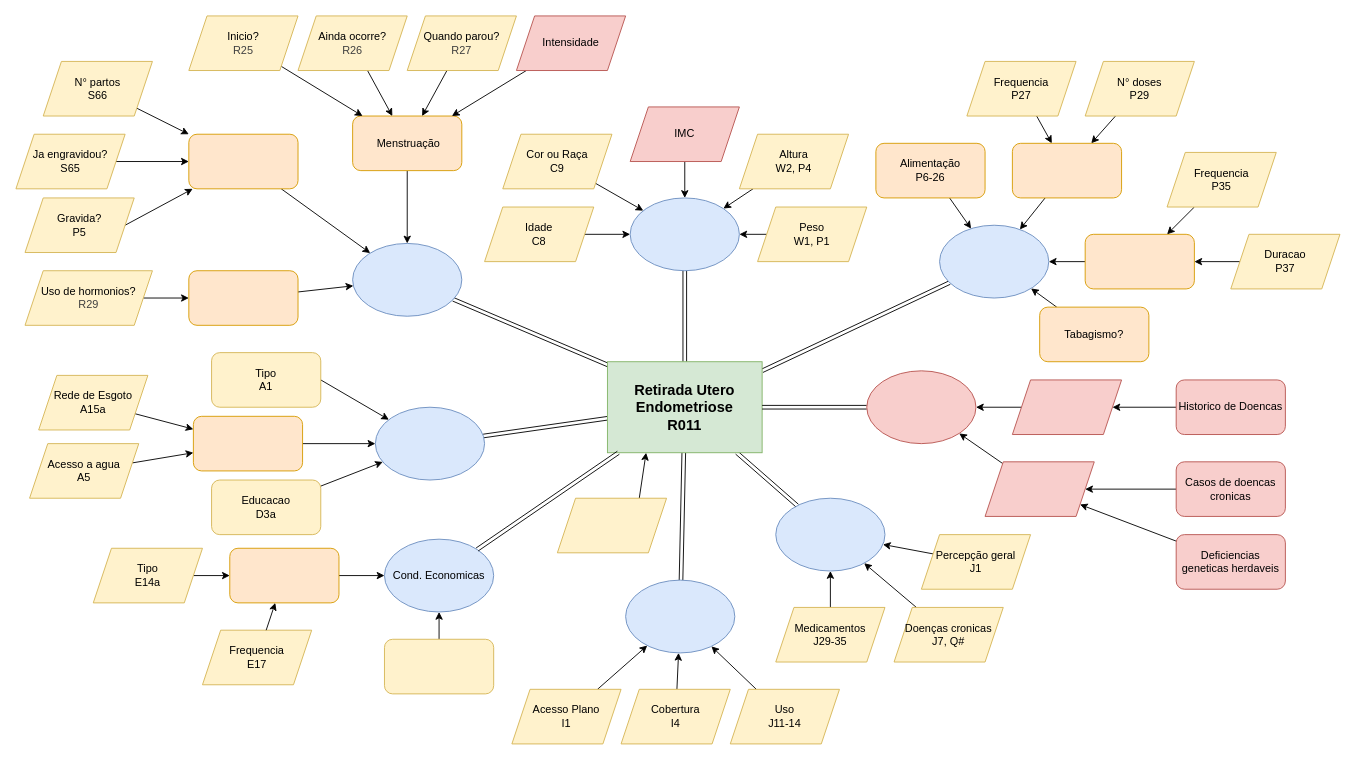
The diagram is 1356 pixels wide and 760 high, and some of its shapes have lost their labels. Each missing label, with the box of its shape:
Alcool?: (1011, 142, 1122, 198)
Antropometria: (629, 197, 739, 271)
Atividade Fisica: (1084, 233, 1194, 289)
Caracteristicas: (192, 415, 303, 471)
Domicilio/ Morador: (374, 406, 485, 480)
Estado de Saude: (775, 497, 885, 571)
Estilo de Vida: (939, 224, 1049, 298)
Genetica: (866, 370, 976, 444)
Historico Familiar: (984, 461, 1094, 516)
Idade R12: (556, 497, 667, 553)
Menopausa? R28: (188, 270, 298, 325)
Plano/Serviço Saude: (625, 579, 735, 653)
Predisposicao: (1011, 379, 1122, 435)
Pré-Natal: (188, 133, 298, 189)
Renda E16: (384, 638, 494, 694)
Saude da Mulher: (352, 243, 462, 316)
Trabalho: (229, 547, 339, 603)
